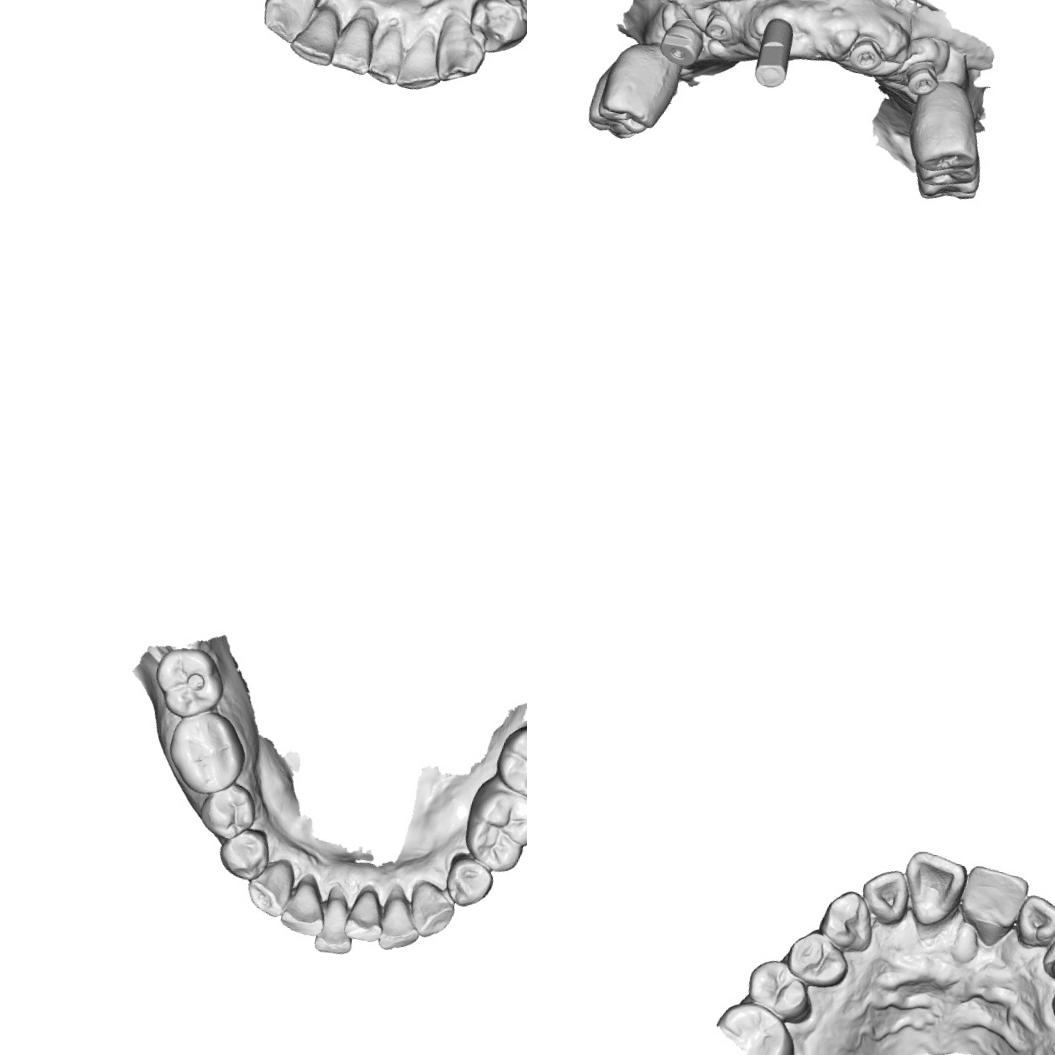canine: (426, 6, 494, 90), (820, 886, 888, 956), (241, 852, 298, 920), (402, 878, 460, 943), (252, 0, 327, 49), (1039, 918, 1055, 985)
implant: (744, 16, 802, 93), (652, 10, 716, 74), (842, 26, 892, 84), (896, 54, 948, 106)
incisor: (954, 864, 1032, 950), (898, 848, 971, 932), (288, 0, 350, 70), (392, 26, 450, 100), (854, 863, 917, 931), (310, 880, 364, 958), (375, 880, 430, 956), (327, 3, 382, 78), (276, 868, 334, 939), (358, 18, 414, 90), (341, 880, 391, 946), (1010, 888, 1055, 957)
molar: (160, 704, 255, 802), (146, 640, 232, 726), (456, 774, 527, 878), (490, 718, 527, 805)
premolar: (898, 72, 990, 180), (593, 33, 682, 138), (740, 954, 819, 1022), (778, 924, 854, 990), (582, 68, 646, 144), (193, 776, 263, 845), (908, 142, 986, 198), (459, 0, 527, 60), (214, 821, 275, 884), (439, 848, 499, 912), (910, 174, 982, 212)
